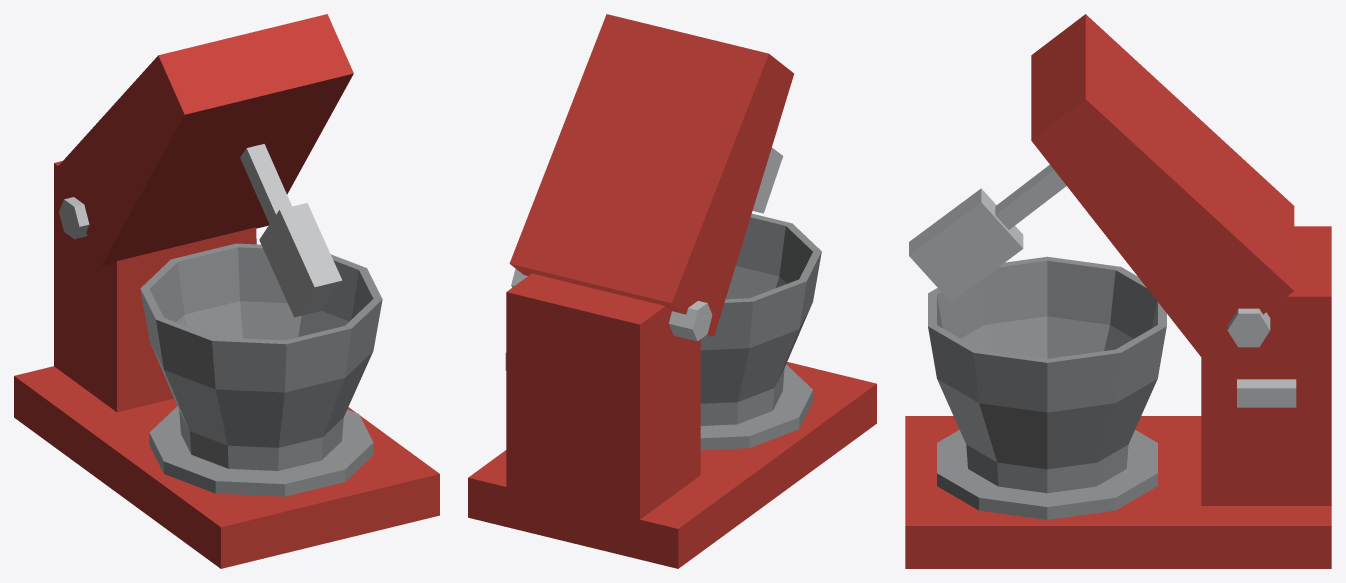
The model's file is FN_Mixer_Stand.obj.
The picture shows the model from 3 angles, left to right: view 1: azimuth 30°, elevation 25°; view 2: azimuth 150°, elevation 25°; view 3: azimuth 270°, elevation 25°; orthographic projection. The views are drawn at different scales.
Visible parts, largest first — view 1: FN_Mixer_Stand; view 2: FN_Mixer_Stand; view 3: FN_Mixer_Stand.
Boxes of the visible parts, <box> form: FN_Mixer_Stand: <box>14,14,439,568</box>; FN_Mixer_Stand: <box>468,14,876,568</box>; FN_Mixer_Stand: <box>905,14,1331,568</box>.
Bounding box in the file's own units: 0.22 × 0.4258 × 0.36.
Materials: 1 (1 with a texture image).
